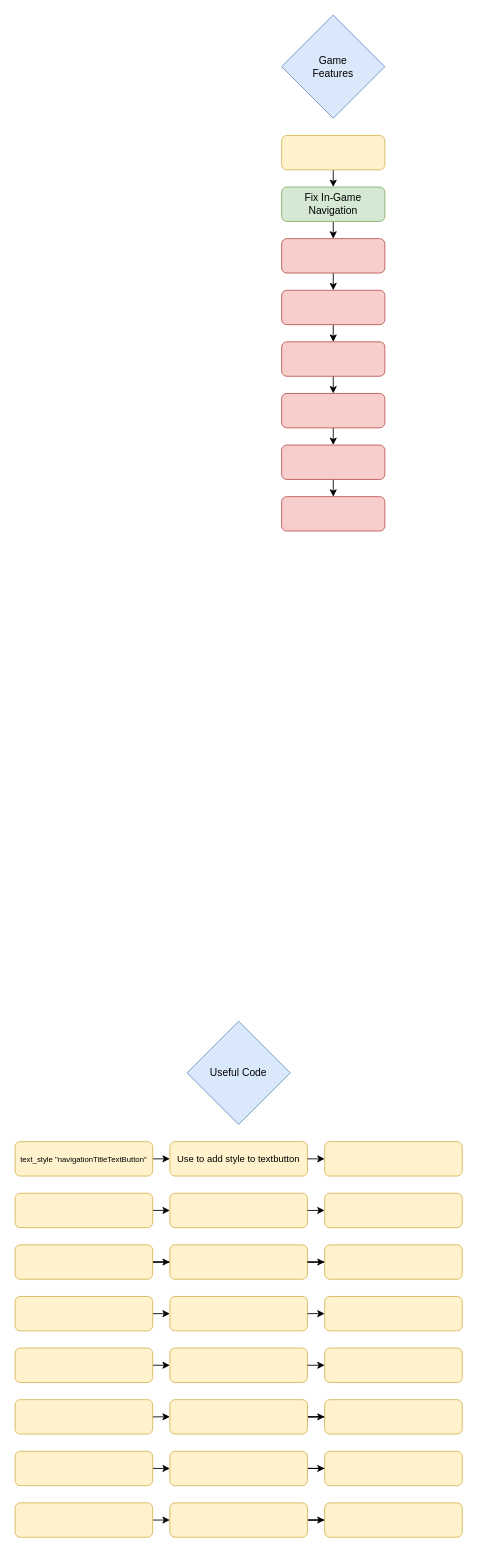
Some shapes in this 477 by 1552 pixel diagram are drawn without their labels. Here are the shapes that lost their labels. From the top down, the box of each, then its label:
(281, 135, 385, 170): Relationship Bar
(281, 238, 385, 273): About (imagebuttons for categories)
(324, 1141, 462, 1176): textbutton _("Start"): text_style "<styleName>
